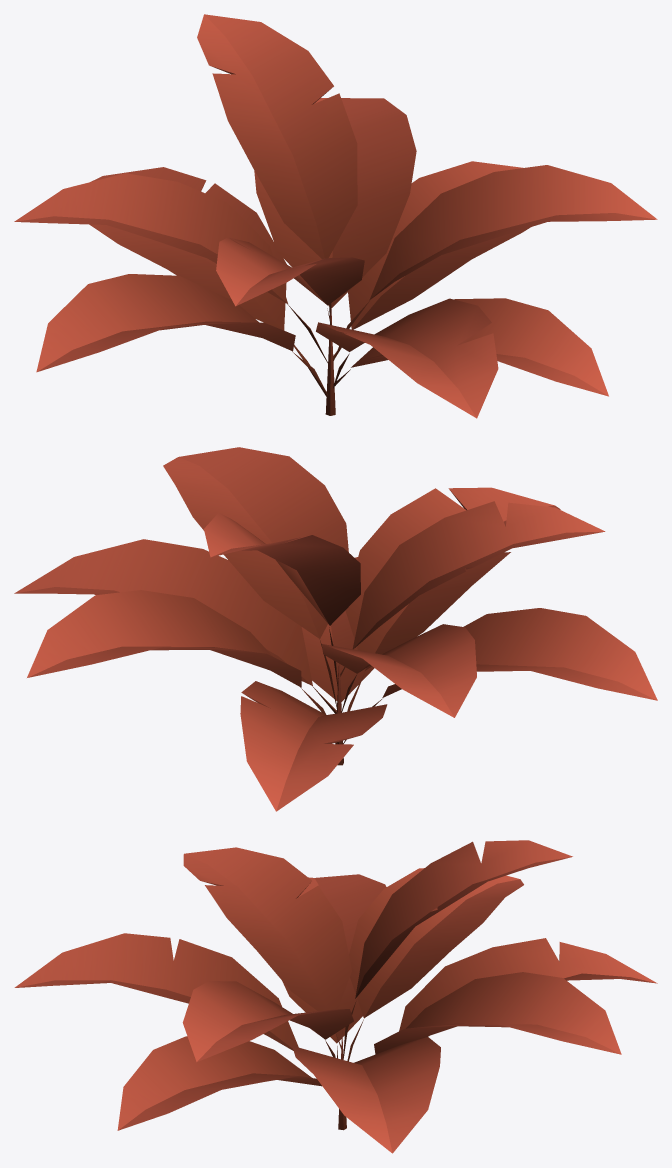
The model's file is Autumn_Plant_01.glb.
3 renders of one model, top to bottom at view 1: azimuth 30°, elevation 25°; view 2: azimuth 150°, elevation 25°; view 3: azimuth 270°, elevation 25°, orthographic. The views are drawn at different scales.
Parts seen in each view (by area): view 1: Autumn_Plant_01_LOD0; view 2: Autumn_Plant_01_LOD0; view 3: Autumn_Plant_01_LOD0.
Part boxes in pixels (x1,y1,x2,y2): Autumn_Plant_01_LOD0: (14, 14, 657, 418); Autumn_Plant_01_LOD0: (14, 447, 657, 811); Autumn_Plant_01_LOD0: (14, 840, 657, 1153).
Size of what is drawn, in the model's own units: 1.69 by 0.8081 by 1.71.
1 material, 1 textured.
